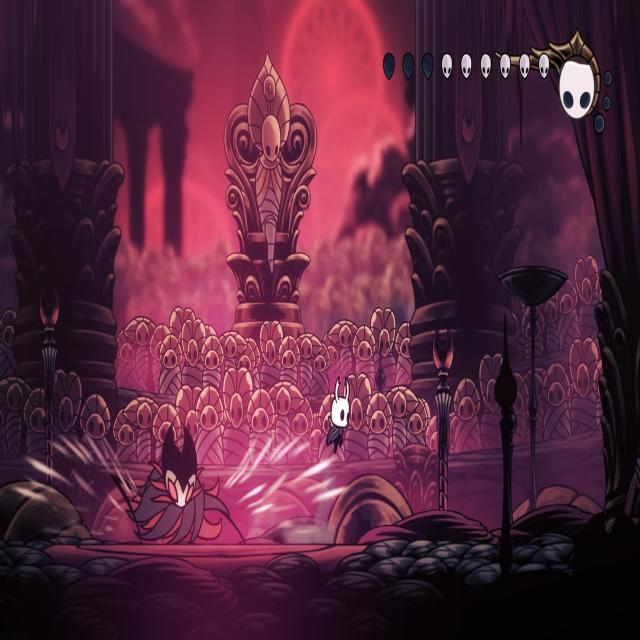Dive Dash: (107, 410, 252, 548)
Player: (324, 369, 355, 460)
